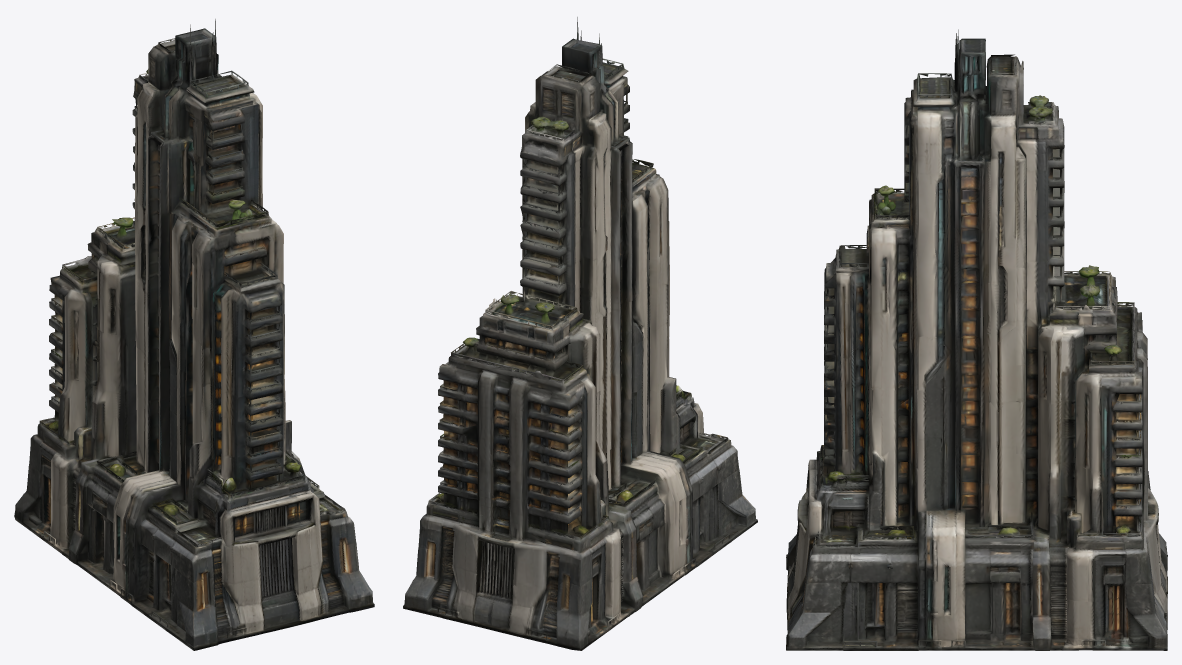
File: kairox-tower-stepped.glb
3 renders of one model, left to right at view 1: azimuth 30°, elevation 25°; view 2: azimuth 150°, elevation 25°; view 3: azimuth 270°, elevation 25°, orthographic. The views are drawn at different scales.
Visible parts, largest first — view 1: kairox-tower-stepped; view 2: kairox-tower-stepped; view 3: kairox-tower-stepped.
Boxes of the visible parts, left/top/right/bottom form: kairox-tower-stepped: left=14, top=19, right=374, bottom=650; kairox-tower-stepped: left=403, top=17, right=757, bottom=650; kairox-tower-stepped: left=786, top=29, right=1167, bottom=650.
Size of the model in its own units: 22.4 by 65 by 38.53.
Materials: 1 (1 with a texture image).
